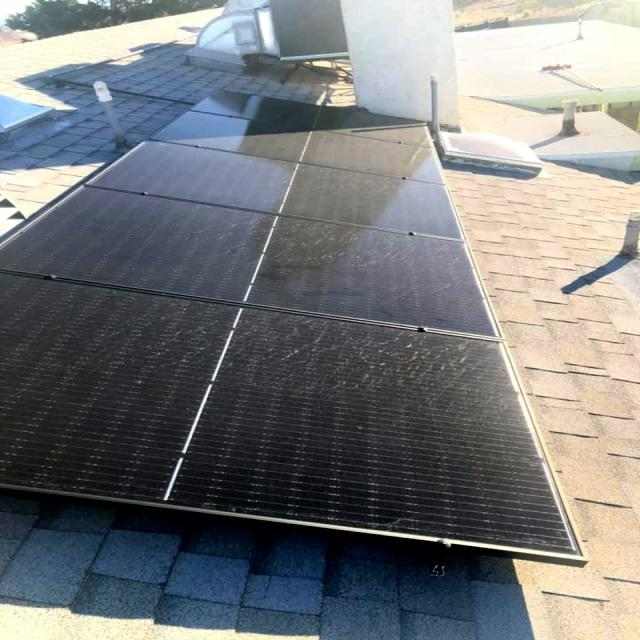dust: (246, 291, 502, 430), (48, 276, 235, 382), (281, 202, 446, 280)
